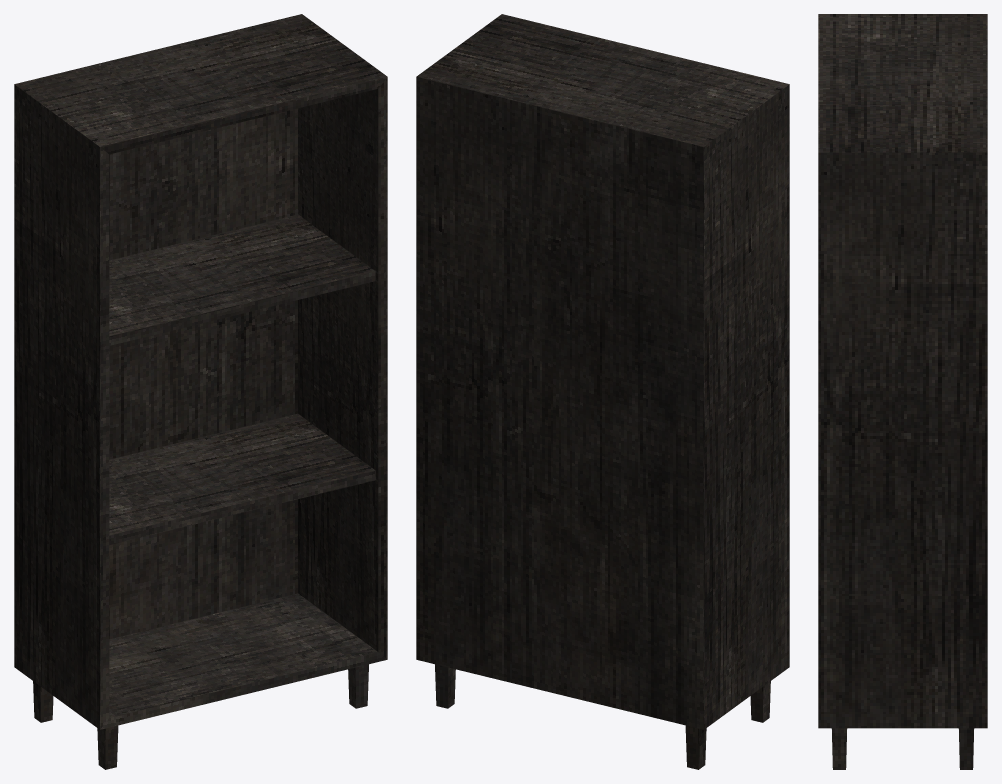
The model's file is shelf_mp_2.glb.
The picture shows the model from 3 angles, left to right: view 1: azimuth 30°, elevation 25°; view 2: azimuth 150°, elevation 25°; view 3: azimuth 270°, elevation 25°; orthographic projection.
Visible parts, largest first — view 1: shelf_mp_2; view 2: shelf_mp_2; view 3: shelf_mp_2.
Boxes of the visible parts, box(x1,y1,x2,y2) form: shelf_mp_2: box(14, 14, 387, 769); shelf_mp_2: box(416, 14, 789, 769); shelf_mp_2: box(818, 14, 987, 769).
Bounding box in the file's own units: 0.62 × 1.3 × 0.32.
Materials: 1 (1 with a texture image).
